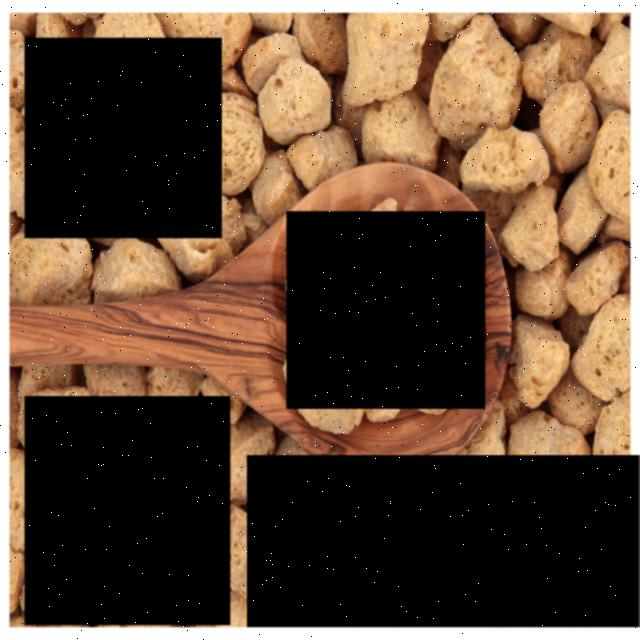Nutrela: (247, 455, 640, 627), (25, 396, 231, 625), (286, 211, 486, 409), (25, 38, 222, 239)
